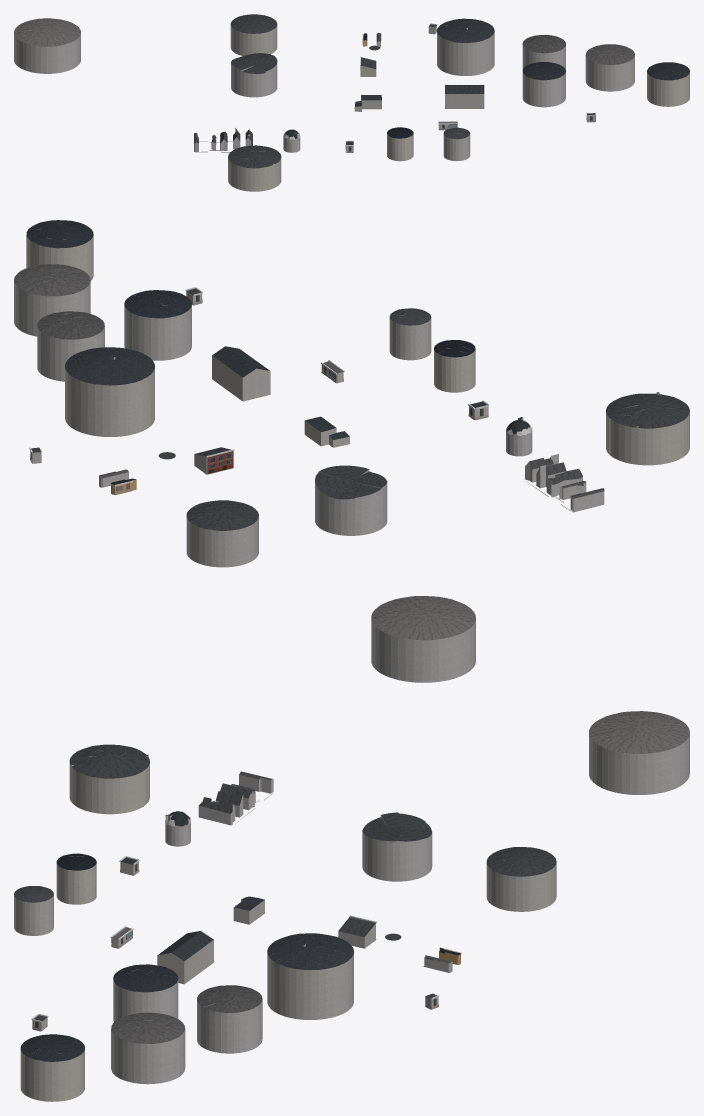
3 renders of one model, top to bottom at view 1: azimuth 30°, elevation 25°; view 2: azimuth 150°, elevation 25°; view 3: azimuth 270°, elevation 25°, orthographic. The views are drawn at different scales.
Parts seen in each view (by area): view 1: bldg_6000064633, bldg_6000064579, bldg_6000064579_roof, bldg_6000064643, bldg_6000064588, bldg_6000064636, bldg_6000064603, bldg_6000064650, bldg_6000064633_roof, bldg_6000064614, bldg_6000064588_roof, bldg_6000064643_roof (+13 smaller); view 2: bldg_6000064633, bldg_6000064579, bldg_6000064579_roof, bldg_6000064588, bldg_6000064603, bldg_6000064636, bldg_6000064633_roof, bldg_6000064614, bldg_6000064588_roof, bldg_6000064643, bldg_6000064643_roof, bldg_6000064603_roof (+13 smaller); view 3: bldg_6000064633, bldg_6000064579, bldg_6000064579_roof, bldg_6000064643, bldg_6000064588, bldg_6000064603, bldg_6000064638, bldg_6000064650, bldg_6000064614, bldg_6000064633_roof, bldg_6000064588_roof, bldg_6000064643_roof (+13 smaller).
Part boxes in pixels (x1,y1,x2,y2): bldg_6000064633: (437,25,494,75); bldg_6000064579: (14,21,80,73); bldg_6000064579_roof: (14,18,80,46); bldg_6000064643: (585,46,634,91); bldg_6000064588: (228,148,281,191); bldg_6000064636: (522,65,565,107); bldg_6000064603: (231,63,277,97); bldg_6000064650: (647,66,689,106); bldg_6000064633_roof: (437,18,494,42); bldg_6000064614: (230,21,277,55); bldg_6000064588_roof: (228,145,281,168); bldg_6000064643_roof: (585,44,634,64); bldg_6000064633: (65,348,154,436); bldg_6000064579: (371,600,475,682); bldg_6000064579_roof: (371,596,475,640); bldg_6000064588: (606,392,689,465); bldg_6000064603: (315,469,387,535); bldg_6000064636: (124,295,191,360); bldg_6000064633_roof: (65,347,154,385); bldg_6000064614: (186,503,258,567); bldg_6000064588_roof: (606,392,689,428); bldg_6000064643: (14,268,90,336); bldg_6000064643_roof: (14,264,90,296); bldg_6000064603_roof: (315,465,387,499); bldg_6000064633: (267,942,353,1019); bldg_6000064579: (589,717,689,794); bldg_6000064579_roof: (589,711,689,753); bldg_6000064643: (111,1017,185,1084); bldg_6000064588: (69,748,149,814); bldg_6000064603: (362,815,432,881); bldg_6000064638: (197,988,262,1053); bldg_6000064650: (20,1038,84,1101); bldg_6000064614: (486,860,556,911); bldg_6000064633_roof: (267,933,353,969); bldg_6000064588_roof: (69,744,149,778); bldg_6000064643_roof: (111,1012,184,1043).
Bounding box in the file's own units: 251 × 19.25 × 205.
Materials: 29 (17 with a texture image).
